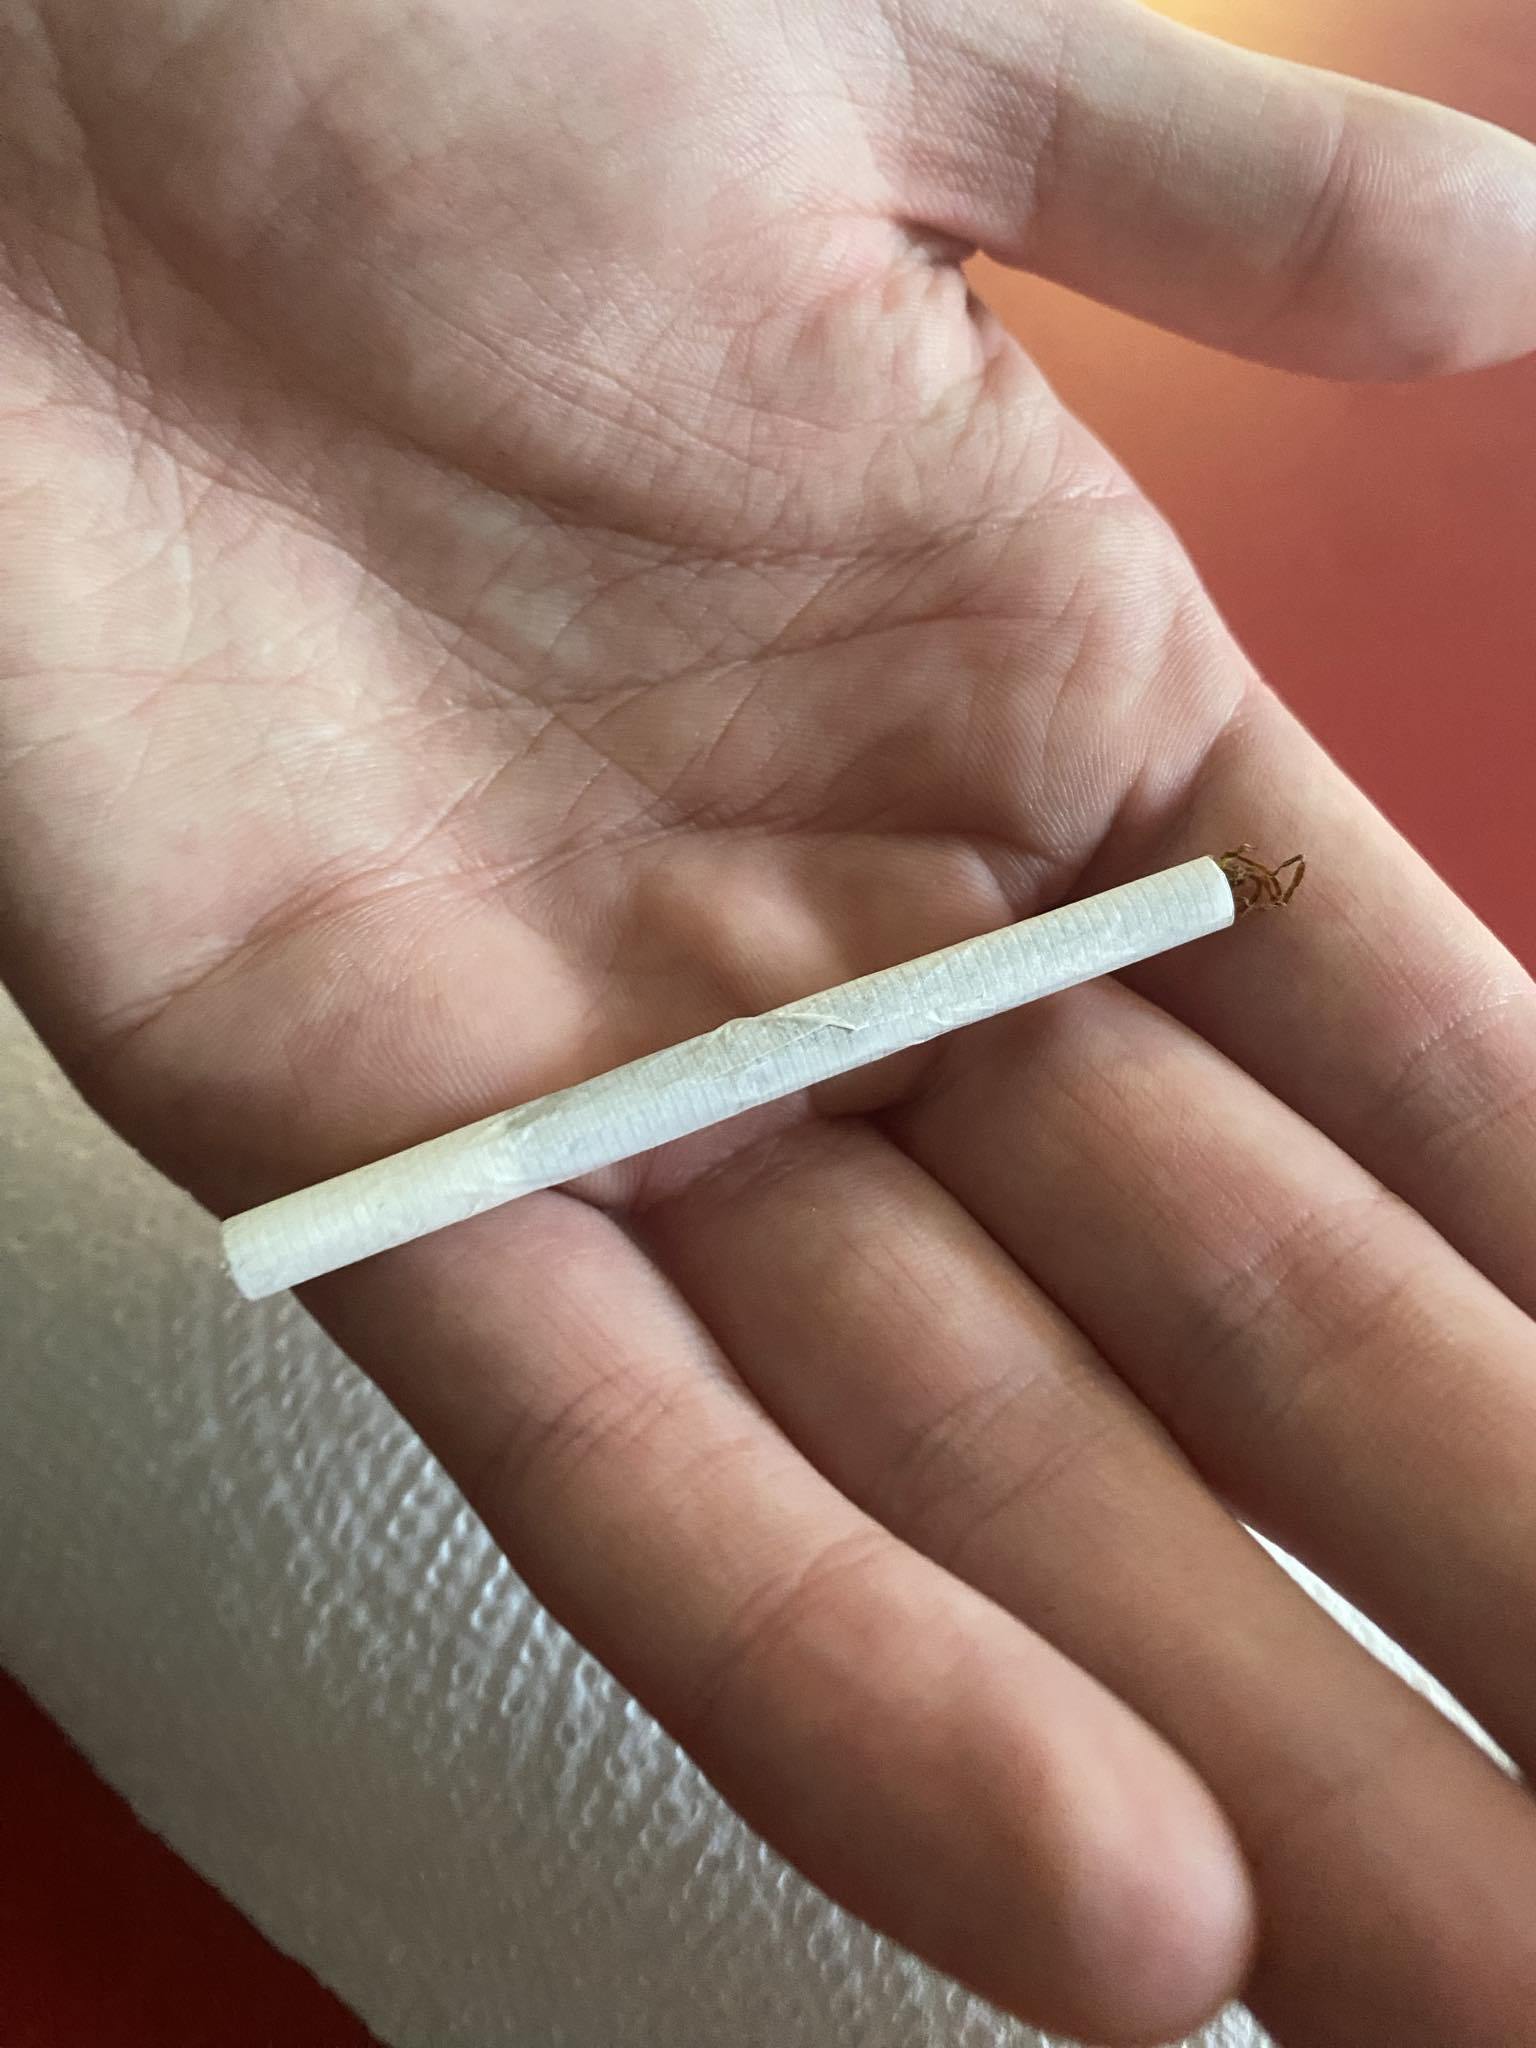Cigarette: (218, 853, 1315, 1301)
